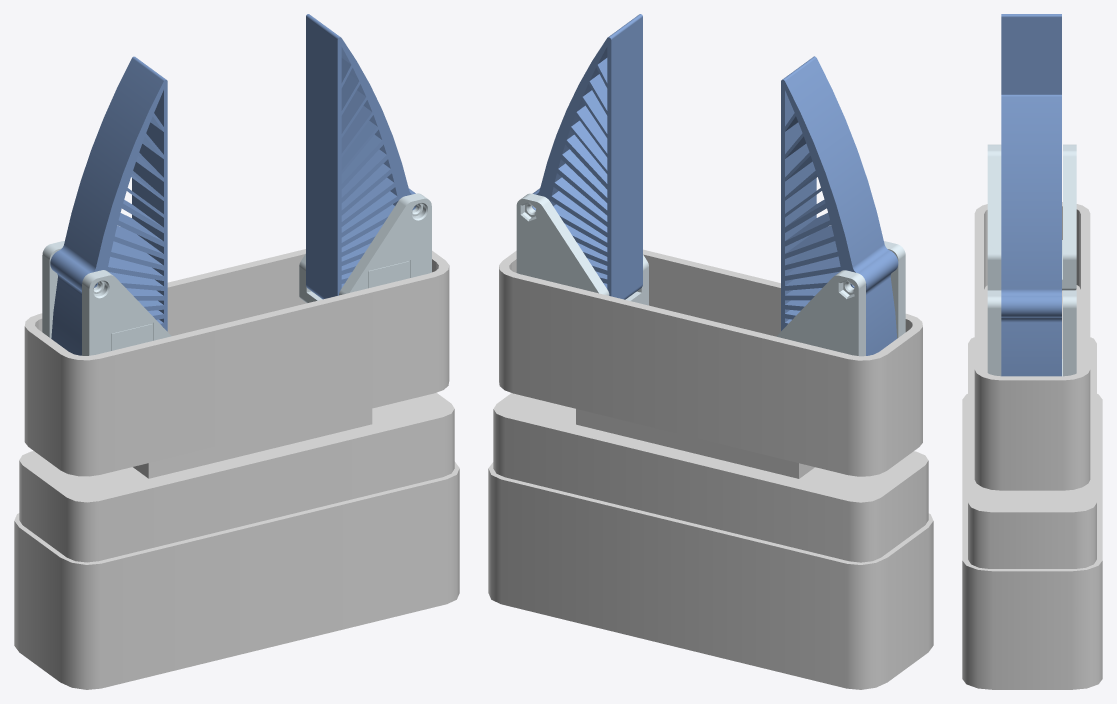
Rendered from Grip_Robot.glb.
The picture shows the model from 3 angles, left to right: view 1: azimuth 30°, elevation 25°; view 2: azimuth 150°, elevation 25°; view 3: azimuth 270°, elevation 25°; orthographic projection. The views are drawn at different scales.
Visible parts, largest first — view 1: Finger_Holder, Base, Motor, soft_gripper_finger, soft_gripper_finger.001, finger_holder_left, finger_holder_right; view 2: Finger_Holder, Base, Motor, soft_gripper_finger, soft_gripper_finger.001, finger_holder_left, finger_holder_right; view 3: Base, Finger_Holder, soft_gripper_finger.001, Motor, soft_gripper_finger, finger_holder_left, finger_holder_right.
Boxes of the visible parts, x1,y1,x2,y2 form: Finger_Holder: (24, 249, 449, 476); Base: (14, 461, 459, 689); Motor: (19, 392, 454, 562); soft_gripper_finger: (50, 56, 167, 355); soft_gripper_finger.001: (306, 14, 416, 299); finger_holder_left: (42, 241, 171, 355); finger_holder_right: (299, 193, 431, 303); Finger_Holder: (499, 249, 922, 476); Base: (488, 462, 933, 689); Motor: (493, 393, 928, 562); soft_gripper_finger: (781, 56, 898, 355); soft_gripper_finger.001: (532, 14, 642, 299); finger_holder_left: (776, 241, 905, 356); finger_holder_right: (516, 193, 648, 305); Base: (962, 394, 1102, 689); Finger_Holder: (974, 202, 1090, 490); soft_gripper_finger.001: (1001, 94, 1061, 376); Motor: (968, 337, 1096, 568); soft_gripper_finger: (1001, 14, 1061, 94); finger_holder_left: (987, 144, 1076, 290); finger_holder_right: (987, 290, 1076, 376).
Bounding box in the file's own units: 0.1843 × 0.2558 × 0.0599.
